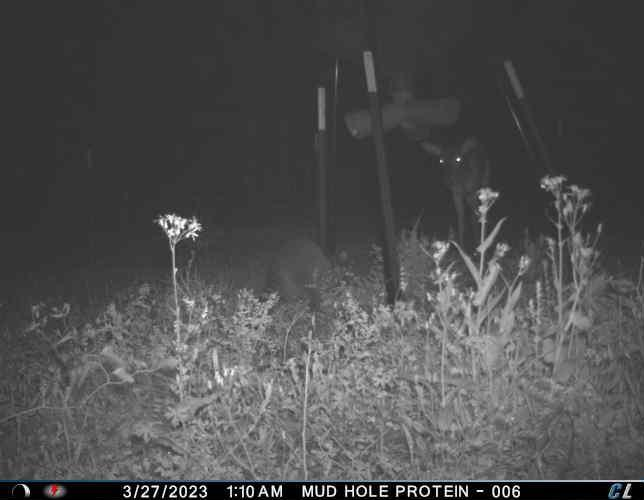Deer: (420, 136, 494, 255)
Raccoon: (254, 234, 347, 308)
